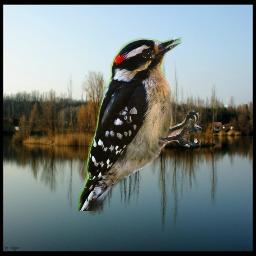Woodpecker: (78, 37, 202, 211)
